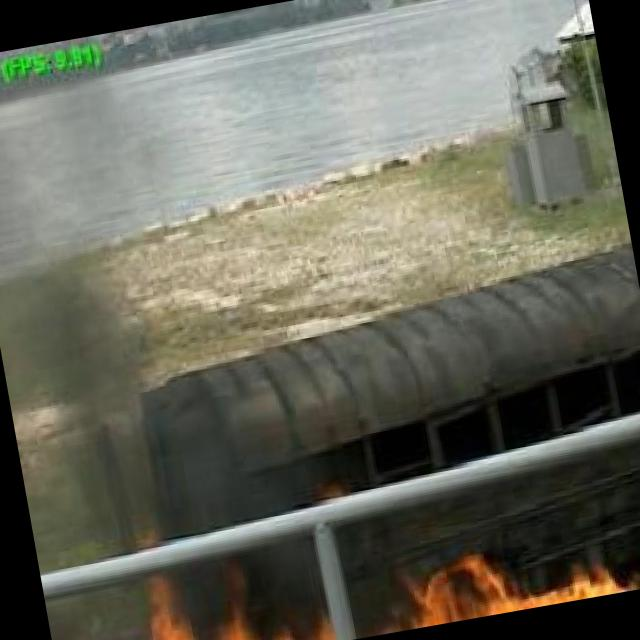Fire: (406, 532, 622, 628), (142, 542, 332, 640), (49, 612, 141, 640)
Smoke: (0, 68, 230, 536)
